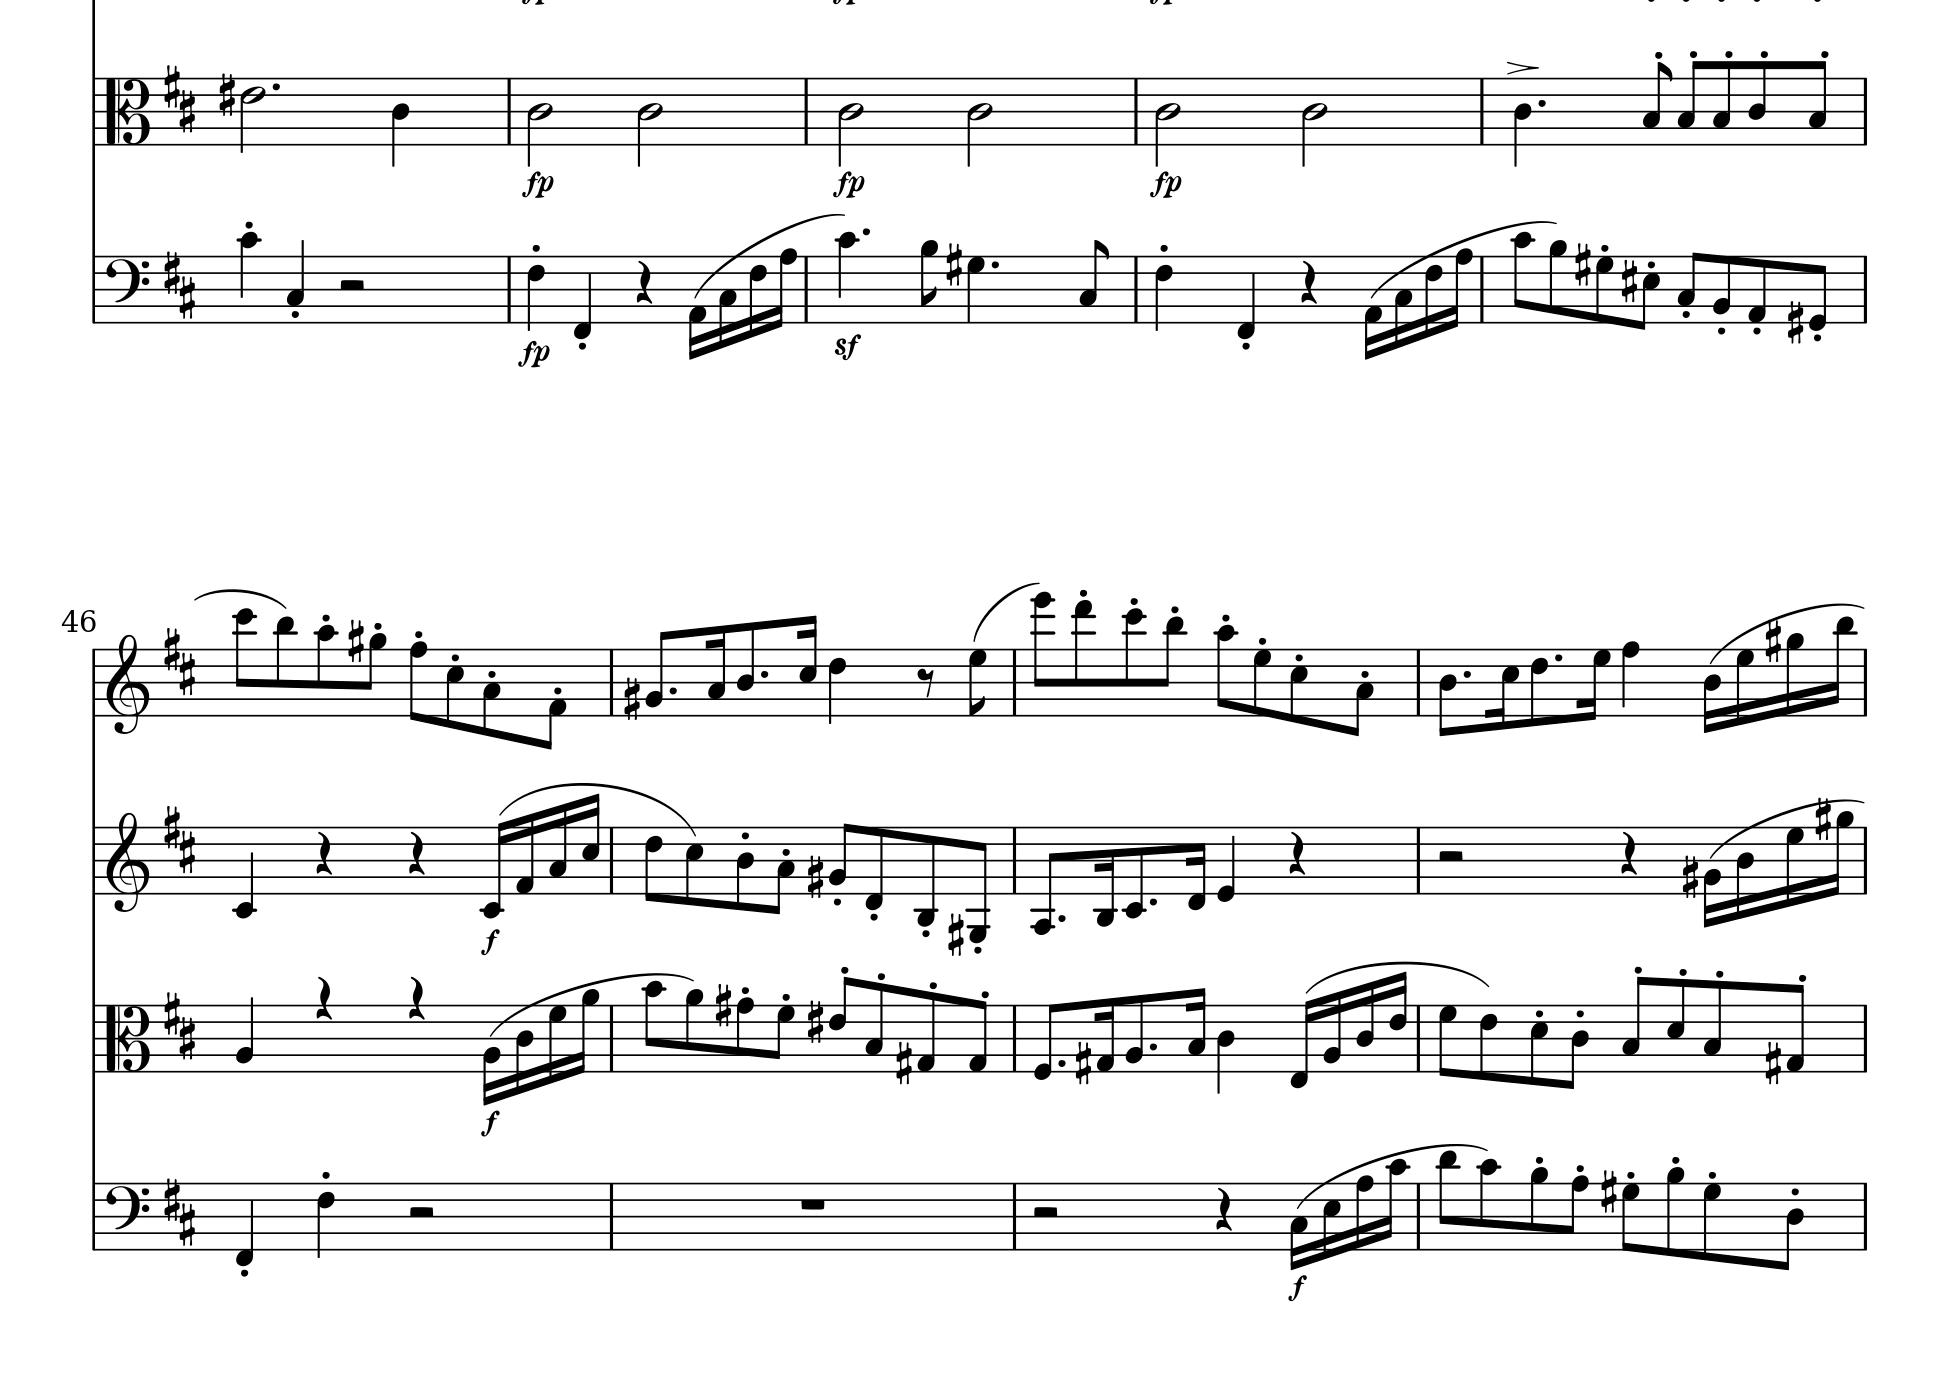16_-1: (1287, 996, 1317, 1089), (1185, 823, 1207, 910)
16_-2: (478, 819, 508, 918)
16_-3: (1092, 823, 1117, 928)
16_1: (1362, 253, 1384, 360), (687, 253, 708, 361), (514, 811, 537, 895), (1093, 996, 1116, 1075)
16_10: (1381, 1156, 1413, 1251)
16_11: (1825, 613, 1857, 718)
16_2: (1702, 823, 1725, 928), (480, 1002, 502, 1102), (1321, 988, 1344, 1074)
16_3: (703, 622, 727, 717), (715, 253, 738, 348), (1392, 253, 1413, 349), (1185, 985, 1207, 1072), (547, 802, 568, 895), (1288, 1180, 1309, 1270)
16_4: (1354, 979, 1377, 1072), (513, 1003, 535, 1095), (1734, 825, 1755, 921), (1701, 646, 1722, 735)
16_5: (1488, 646, 1519, 732), (796, 610, 817, 717), (580, 792, 601, 897), (1321, 1180, 1342, 1260)
16_6: (1387, 970, 1410, 1072), (1423, 252, 1444, 337), (747, 253, 768, 337)
16_7: (1578, 646, 1614, 721), (1785, 823, 1806, 912), (1734, 645, 1755, 730), (546, 1002, 567, 1086)
16_8: (771, 247, 798, 330), (1447, 247, 1474, 330), (1354, 1173, 1375, 1252)
16_9: (1827, 808, 1854, 898), (574, 987, 600, 1075), (1783, 631, 1803, 720)
2_4: (634, 76, 664, 168), (966, 76, 994, 168), (1300, 76, 1329, 168), (837, 76, 865, 166), (1153, 76, 1182, 166), (526, 75, 553, 166)
2_6: (238, 76, 267, 154)
4: (60, 606, 78, 634)
4_-1: (232, 1180, 256, 1267), (1234, 253, 1257, 342), (571, 253, 594, 340)
4_-2: (231, 823, 258, 919)
4_0: (1215, 823, 1239, 903)
4_10: (235, 229, 261, 325), (834, 229, 859, 324)
4_2: (234, 993, 256, 1074)
4_3: (283, 237, 307, 322)
4_4: (388, 75, 412, 168), (1512, 76, 1533, 169), (1215, 1003, 1236, 1095)
4_6: (313, 1180, 337, 1261), (523, 253, 547, 333), (1152, 253, 1176, 333), (826, 646, 847, 726)
4_7: (964, 253, 987, 324)
4_8: (1620, 639, 1641, 718)
6: (79, 606, 97, 634)
8_-1: (862, 823, 886, 912)
8_-2: (1122, 823, 1147, 919)
8_-3: (913, 825, 939, 925)
8_-4: (1029, 823, 1059, 934)
8_-5: (964, 823, 993, 943)
8_0: (1032, 1000, 1063, 1081), (1807, 253, 1830, 333)
8_1: (540, 646, 568, 751), (964, 997, 990, 1075), (1785, 982, 1806, 1075), (916, 988, 937, 1075), (1746, 253, 1768, 325)
8_10: (640, 979, 667, 1074), (1476, 1156, 1503, 1251), (1510, 229, 1536, 325), (313, 622, 337, 718), (1215, 622, 1239, 718)
8_11: (1158, 615, 1188, 717), (271, 615, 298, 718), (1435, 1147, 1462, 1251)
8_12: (1122, 606, 1149, 718), (232, 606, 258, 718)
8_13: (1071, 597, 1098, 718)
8_14: (1029, 592, 1056, 715)
8_2: (643, 628, 670, 715), (826, 820, 855, 895), (1122, 991, 1146, 1072), (1711, 253, 1732, 324)
8_3: (1620, 973, 1650, 1075), (1344, 646, 1377, 738), (1077, 238, 1110, 325), (1641, 60, 1672, 148), (766, 825, 796, 916), (1677, 58, 1704, 148), (1702, 978, 1725, 1074), (480, 646, 502, 739), (862, 979, 885, 1072), (1711, 58, 1734, 148), (1807, 58, 1830, 147), (1677, 250, 1702, 324)
8_4: (1776, 1180, 1806, 1272), (1563, 1003, 1591, 1090), (735, 619, 757, 717), (1746, 58, 1770, 148), (733, 825, 757, 913), (1437, 646, 1458, 739)
8_5: (1635, 255, 1662, 331), (442, 646, 466, 732), (1665, 976, 1686, 1074), (1528, 1003, 1551, 1087), (1287, 646, 1309, 727), (682, 825, 703, 907)
8_6: (826, 973, 856, 1074), (1477, 1002, 1500, 1083), (643, 825, 664, 904), (1530, 646, 1549, 727)
8_7: (769, 1003, 796, 1072), (1701, 1180, 1722, 1263), (1251, 646, 1273, 718), (1437, 1003, 1458, 1078), (967, 646, 988, 718), (1620, 1180, 1641, 1252), (1593, 255, 1614, 325)
8_8: (1563, 1174, 1590, 1252), (406, 640, 429, 724), (733, 994, 756, 1074)
8_9: (361, 631, 388, 718), (1663, 1165, 1686, 1258), (1546, 238, 1569, 325), (682, 987, 705, 1074), (1528, 1165, 1551, 1251), (918, 238, 939, 325)
Accent_above: (1503, 58, 1539, 76)
Cclef: (103, 1002, 151, 1072), (103, 76, 151, 145)
D_S: (160, 247, 198, 319), (160, 988, 196, 1060), (160, 802, 196, 871), (162, 624, 196, 694), (162, 1176, 196, 1246)
Fclef: (103, 253, 150, 325), (103, 1180, 148, 1252)
Gclef: (106, 631, 150, 735), (106, 810, 150, 913)
Rests1: (796, 1194, 829, 1213)
Rests2: (1434, 846, 1468, 867), (405, 1203, 438, 1222), (1029, 1203, 1062, 1222), (334, 276, 367, 294)
Rests4: (633, 258, 655, 307), (405, 828, 427, 877), (1297, 258, 1320, 306), (313, 829, 334, 877), (1287, 829, 1308, 877), (313, 973, 334, 1021), (406, 973, 427, 1021), (1620, 829, 1639, 877), (1215, 1185, 1234, 1231)
Rests8: (915, 664, 937, 700)
Sharp: (619, 673, 640, 723), (1572, 241, 1593, 289), (1680, 853, 1701, 901), (712, 982, 733, 1029), (805, 852, 825, 901), (1599, 1167, 1618, 1216), (217, 70, 237, 118), (943, 240, 963, 288), (1786, 298, 1806, 346), (1813, 795, 1833, 843), (805, 997, 825, 1045), (894, 1039, 913, 1087), (1764, 1039, 1783, 1087), (1620, 256, 1638, 304), (346, 616, 364, 664), (1074, 1039, 1092, 1087), (1764, 618, 1782, 664), (946, 912, 964, 957)
Single_barline: (796, 76, 817, 145), (85, 76, 103, 145), (1857, 76, 1875, 145), (1128, 76, 1146, 144), (85, 1003, 103, 1071), (499, 76, 517, 142), (1857, 255, 1873, 324), (1857, 1003, 1873, 1072), (1474, 78, 1491, 145), (603, 648, 619, 715), (603, 826, 619, 894), (1411, 1005, 1428, 1072), (1006, 1182, 1023, 1249), (1410, 1182, 1426, 1249), (85, 256, 102, 322), (501, 256, 517, 322), (1410, 826, 1426, 892), (603, 1005, 619, 1071), (603, 1183, 619, 1249), (1128, 256, 1144, 321), (1857, 646, 1872, 717), (1008, 1003, 1023, 1072), (799, 255, 814, 322), (1008, 826, 1023, 894), (87, 1182, 102, 1249), (1858, 1182, 1873, 1249), (1474, 256, 1489, 322), (1008, 649, 1023, 715), (1410, 649, 1425, 715), (87, 826, 102, 892), (1858, 826, 1872, 895), (87, 649, 100, 715)
Slur: (972, 580, 1044, 642)
dot: (1534, 96, 1549, 109), (1551, 649, 1566, 663), (757, 667, 772, 681), (268, 79, 282, 93), (1147, 894, 1161, 907), (1147, 1039, 1161, 1053), (1056, 910, 1068, 925), (859, 225, 871, 238), (1056, 1056, 1068, 1069), (1461, 667, 1473, 679), (667, 684, 679, 696), (990, 258, 1000, 270)
f: (478, 925, 502, 955), (478, 1107, 502, 1137), (1287, 1272, 1311, 1302)
fp: (1149, 169, 1185, 201), (520, 169, 555, 199), (831, 169, 865, 199)
pp: (516, 337, 552, 370)
sf: (832, 331, 862, 361)
